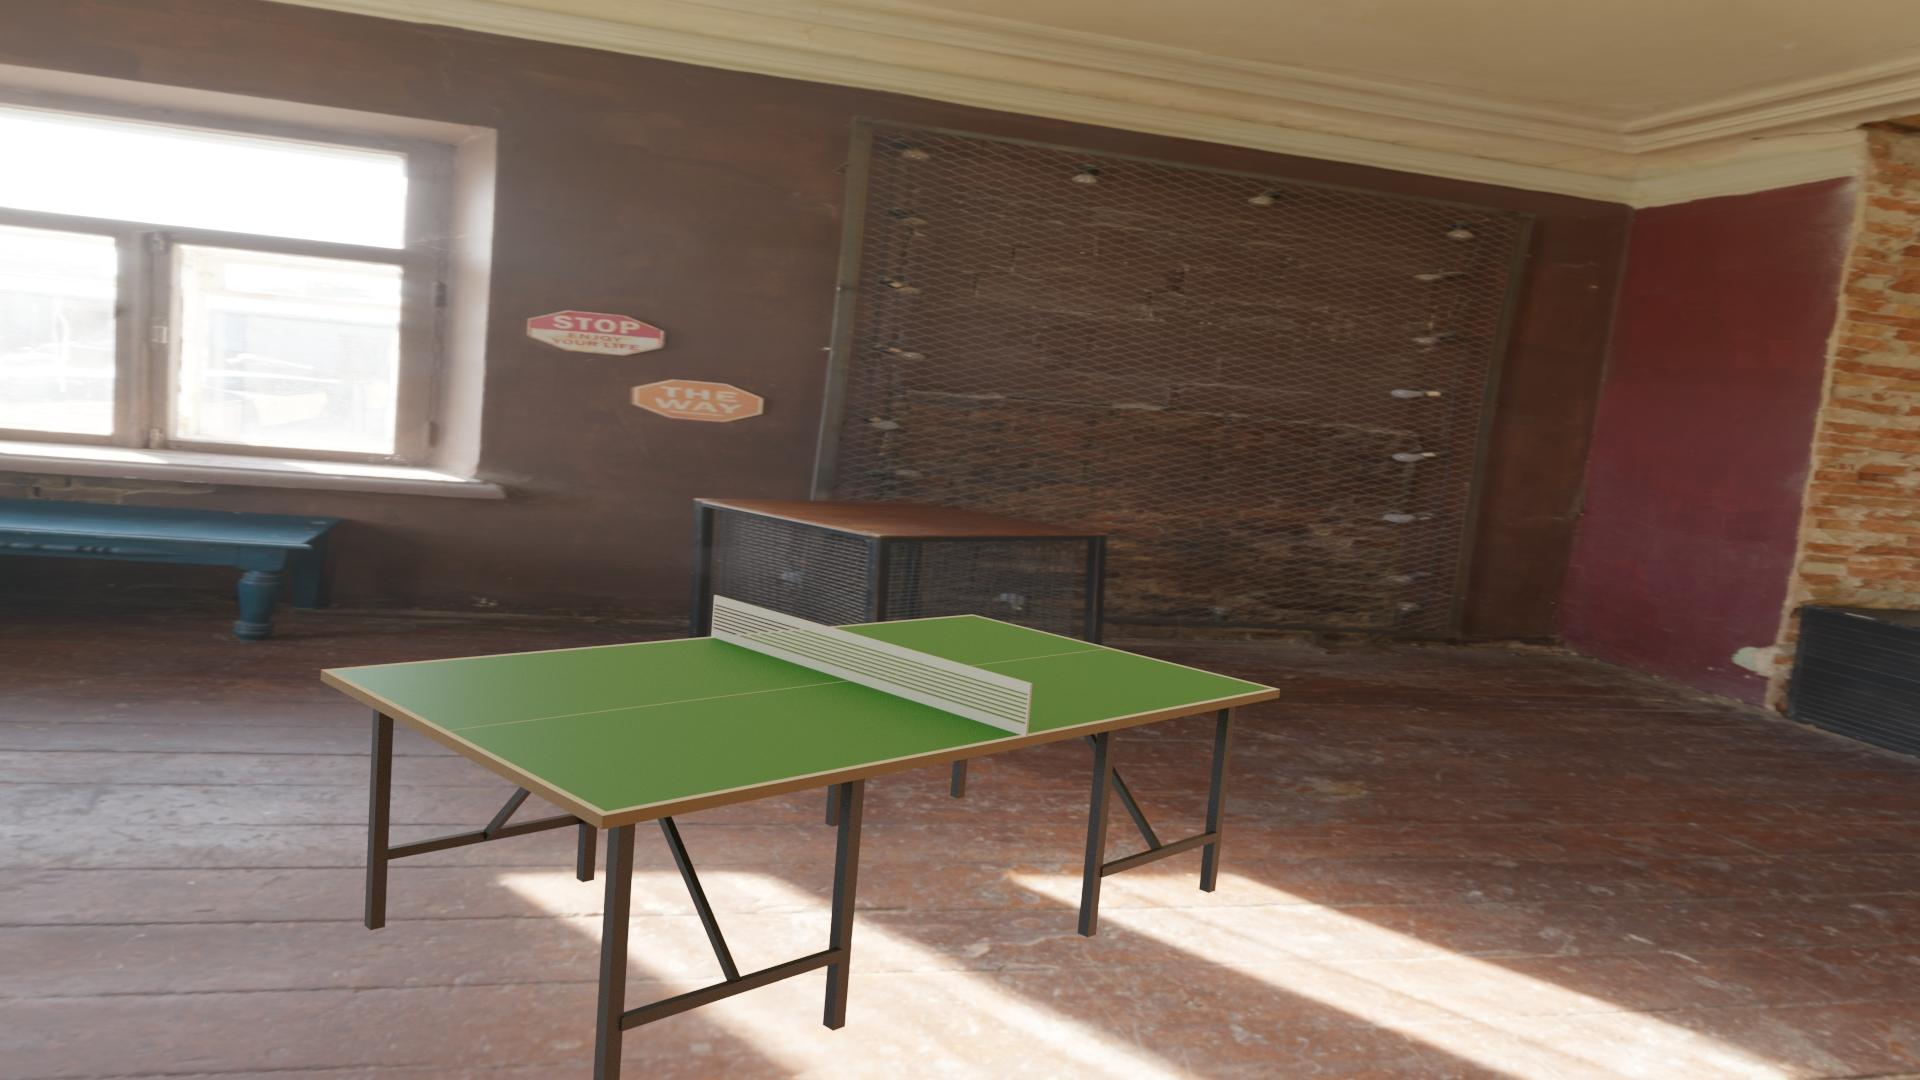table: (331, 616, 1273, 811)
